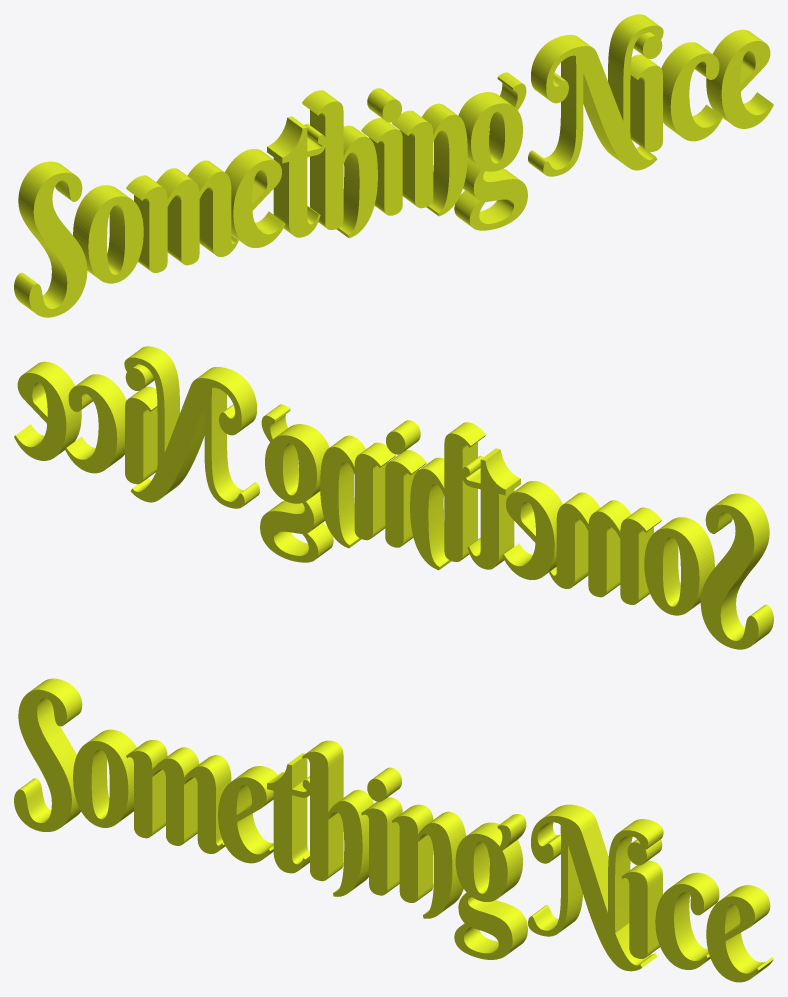
File: text-3d-texture.glb
The picture shows the model from 3 angles, top to bottom: view 1: azimuth 30°, elevation 25°; view 2: azimuth 150°, elevation 25°; view 3: azimuth 330°, elevation 25°; orthographic projection.
Parts seen in each view (by area): view 1: 3D Text - N, 3D Text - m, 3D Text - e (×2), 3D Text - g, 3D Text - h, 3D Text - S, 3D Text - i (×2), 3D Text - n, 3D Text - o, 3D Text - t, 3D Text - c; view 2: 3D Text - N, 3D Text - m, 3D Text - e (×2), 3D Text - g, 3D Text - h, 3D Text - S, 3D Text - i (×2), 3D Text - n, 3D Text - o, 3D Text - t, 3D Text - c; view 3: 3D Text - N, 3D Text - m, 3D Text - g, 3D Text - e (×2), 3D Text - S, 3D Text - i (×2), 3D Text - h, 3D Text - n, 3D Text - o, 3D Text - c, 3D Text - t.
Boxes of the visible parts, <box> form: 3D Text - N: <box>528,14,663,176</box>; 3D Text - m: <box>126,160,238,272</box>; 3D Text - e (×2): <box>225,29,773,247</box>; 3D Text - g: <box>454,72,527,230</box>; 3D Text - h: <box>302,90,377,238</box>; 3D Text - S: <box>14,161,87,317</box>; 3D Text - i (×2): <box>361,32,662,215</box>; 3D Text - n: <box>392,103,467,216</box>; 3D Text - o: <box>73,185,143,283</box>; 3D Text - t: <box>267,116,325,237</box>; 3D Text - c: <box>661,42,722,141</box>; 3D Text - N: <box>124,346,259,508</box>; 3D Text - m: <box>549,492,661,604</box>; 3D Text - e (×2): <box>14,361,562,579</box>; 3D Text - g: <box>260,404,333,562</box>; 3D Text - h: <box>410,422,485,570</box>; 3D Text - S: <box>700,493,773,649</box>; 3D Text - i (×2): <box>125,364,426,547</box>; 3D Text - n: <box>320,435,395,548</box>; 3D Text - o: <box>644,517,714,615</box>; 3D Text - t: <box>462,448,520,569</box>; 3D Text - c: <box>65,374,126,473</box>; 3D Text - N: <box>528,804,663,971</box>; 3D Text - m: <box>126,740,231,853</box>; 3D Text - g: <box>454,814,527,959</box>; 3D Text - e (×2): <box>218,766,773,982</box>; 3D Text - S: <box>14,678,82,831</box>; 3D Text - i (×2): <box>361,767,662,958</box>; 3D Text - h: <box>302,740,373,896</box>; 3D Text - n: <box>392,804,466,918</box>; 3D Text - o: <box>73,729,136,827</box>; 3D Text - c: <box>655,872,719,969</box>; 3D Text - t: <box>267,753,310,873</box>.
Size of the model in its own units: 0.028 by 0.006 by 0.001.
